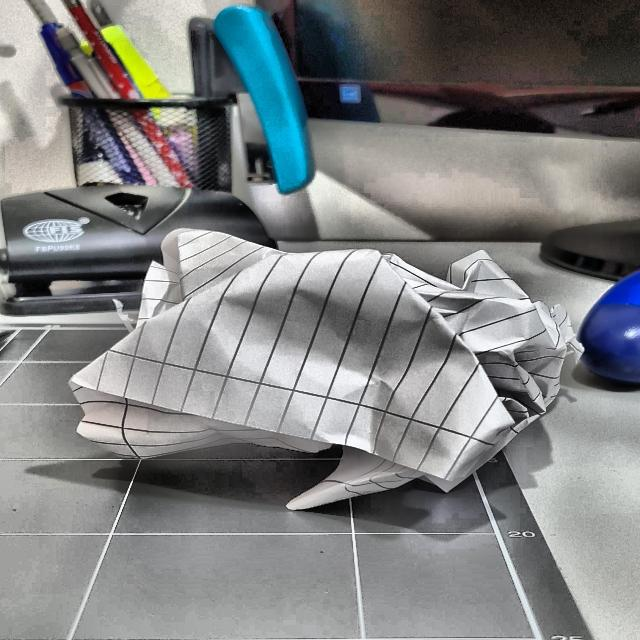paper: (97, 227, 586, 512)
